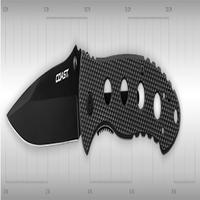knife: (4, 44, 182, 161)
